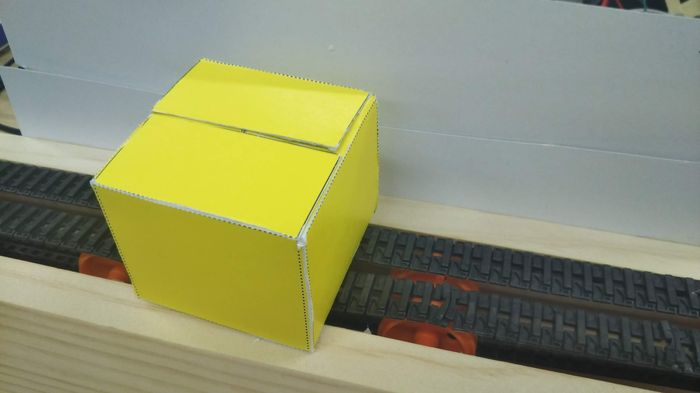box4: (89, 54, 381, 352)
